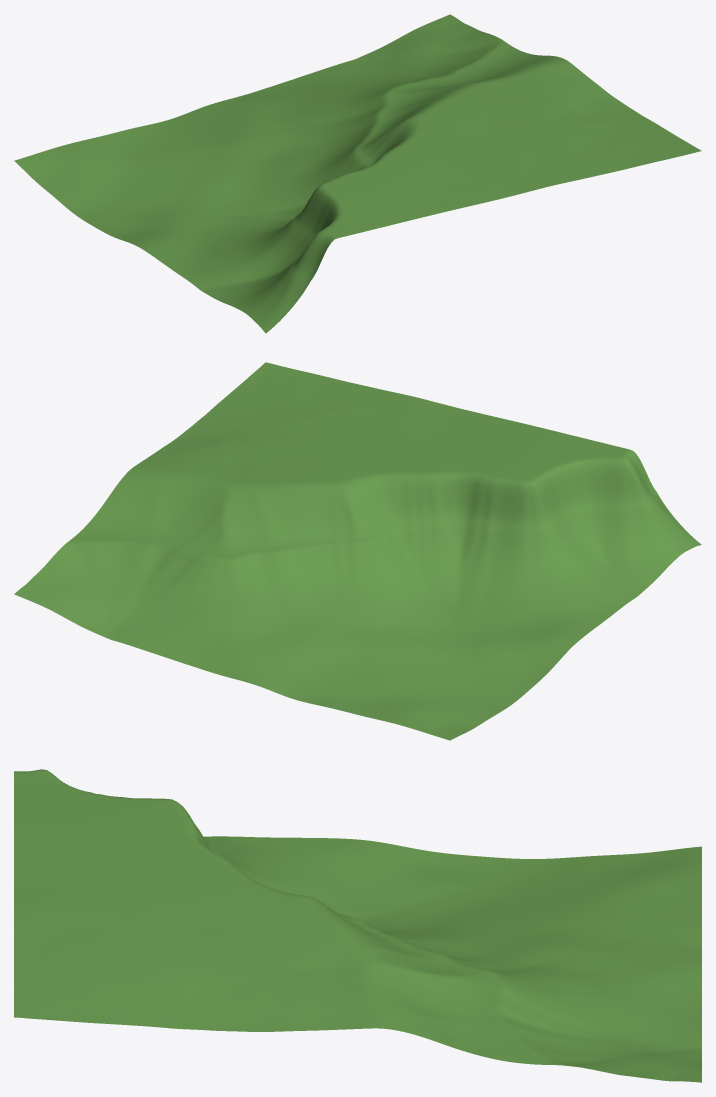
The model's file is SM_Terrain_01_02.fbx.
The picture shows the model from 3 angles, top to bottom: view 1: azimuth 30°, elevation 25°; view 2: azimuth 150°, elevation 25°; view 3: azimuth 270°, elevation 25°; orthographic projection. The views are drawn at different scales.
Parts seen in each view (by area): view 1: SM_Terrain_01_02; view 2: SM_Terrain_01_02; view 3: SM_Terrain_01_02.
Part boxes in pixels (x1=…): SM_Terrain_01_02: x1=14, y1=14, x2=701, y2=333; SM_Terrain_01_02: x1=14, y1=362, x2=701, y2=740; SM_Terrain_01_02: x1=14, y1=769, x2=701, y2=1082.
Bounding box in the file's own units: 384 × 83.04 × 384.
